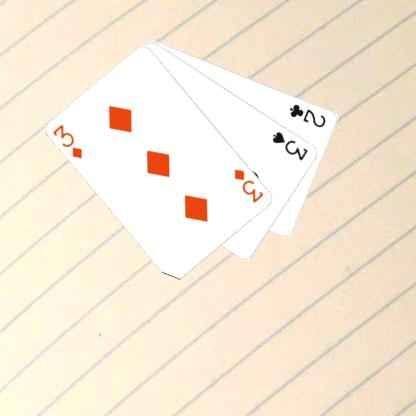2C: (288, 101, 328, 129)
3D: (50, 122, 84, 160), (232, 166, 265, 204)
3S: (270, 129, 310, 162)
